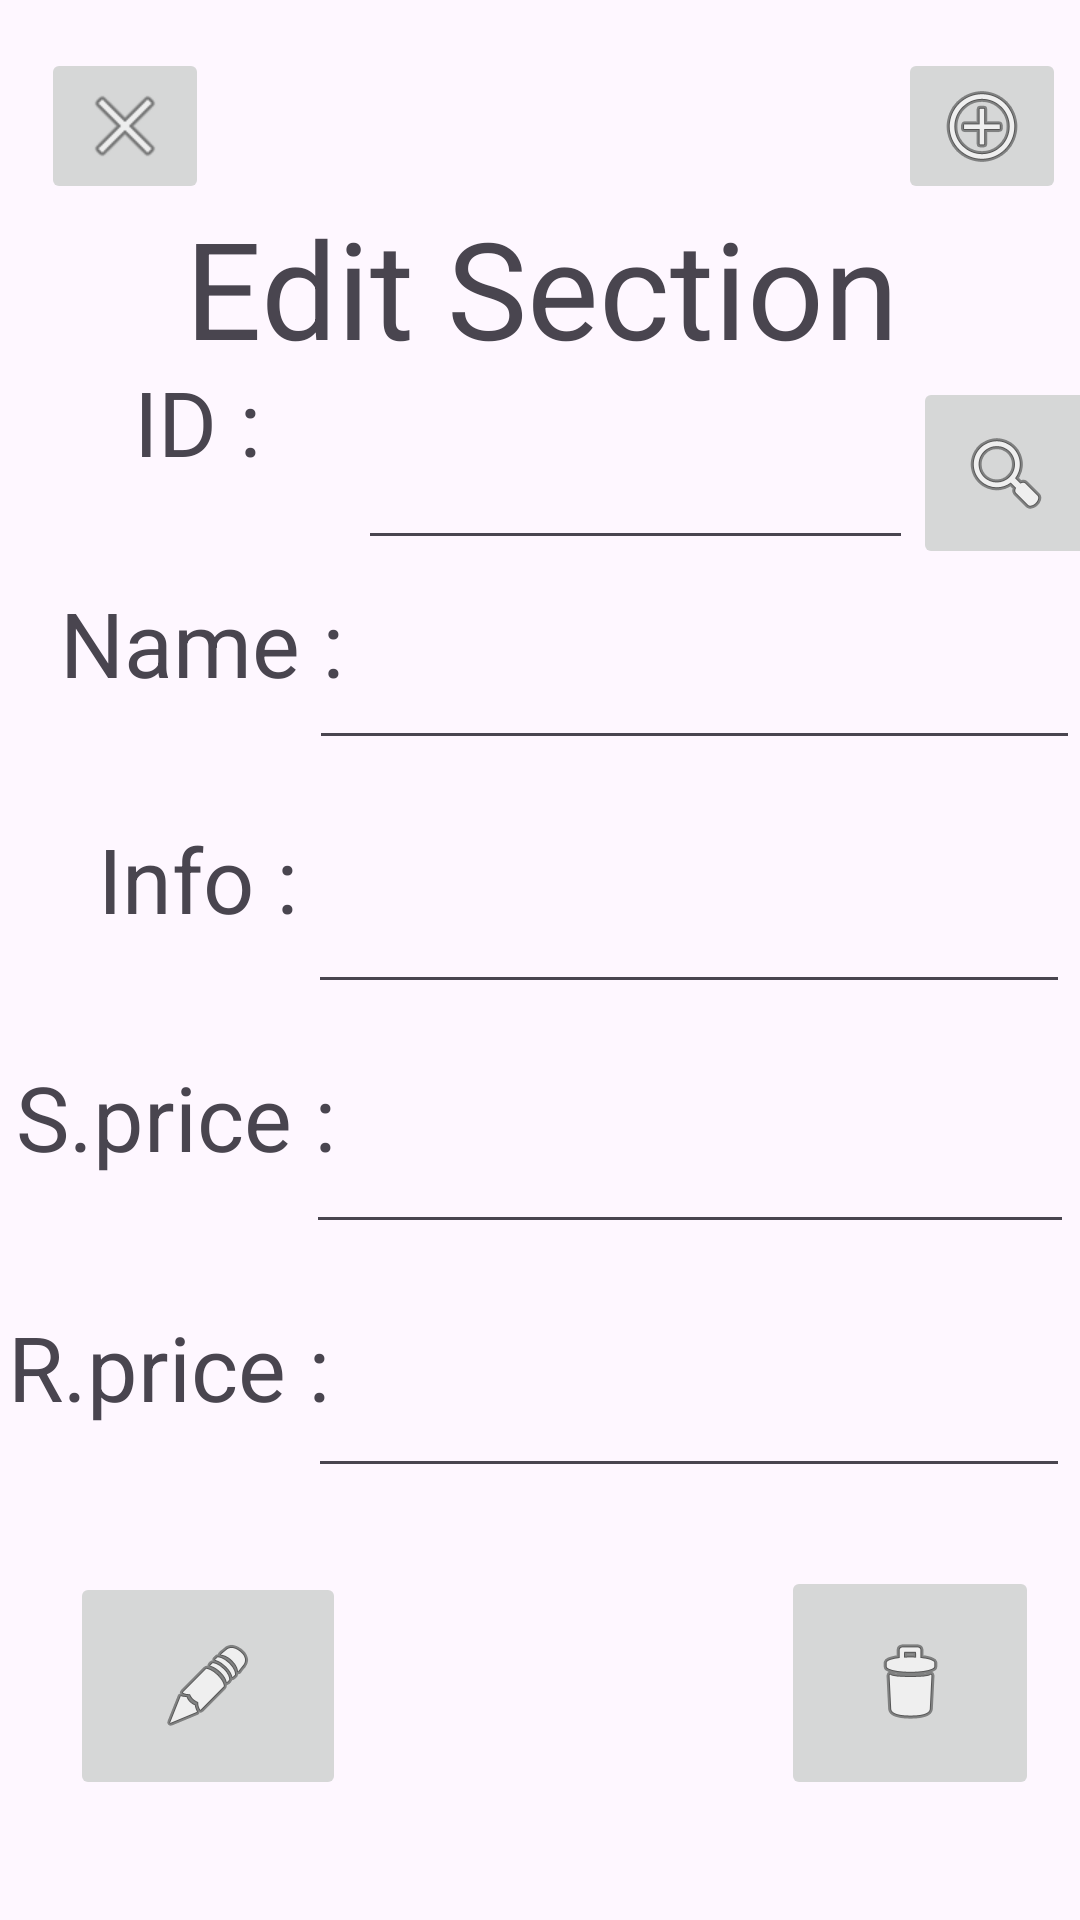

Locate icon controls on the screen. Image size 1080×1920, boxes as (x1,y1,x2,y2).
add: (910,66,1054,186)
close clear cancel: (53,66,197,186)
delete: (793,1584,1027,1782)
edit: (82,1590,334,1782)
